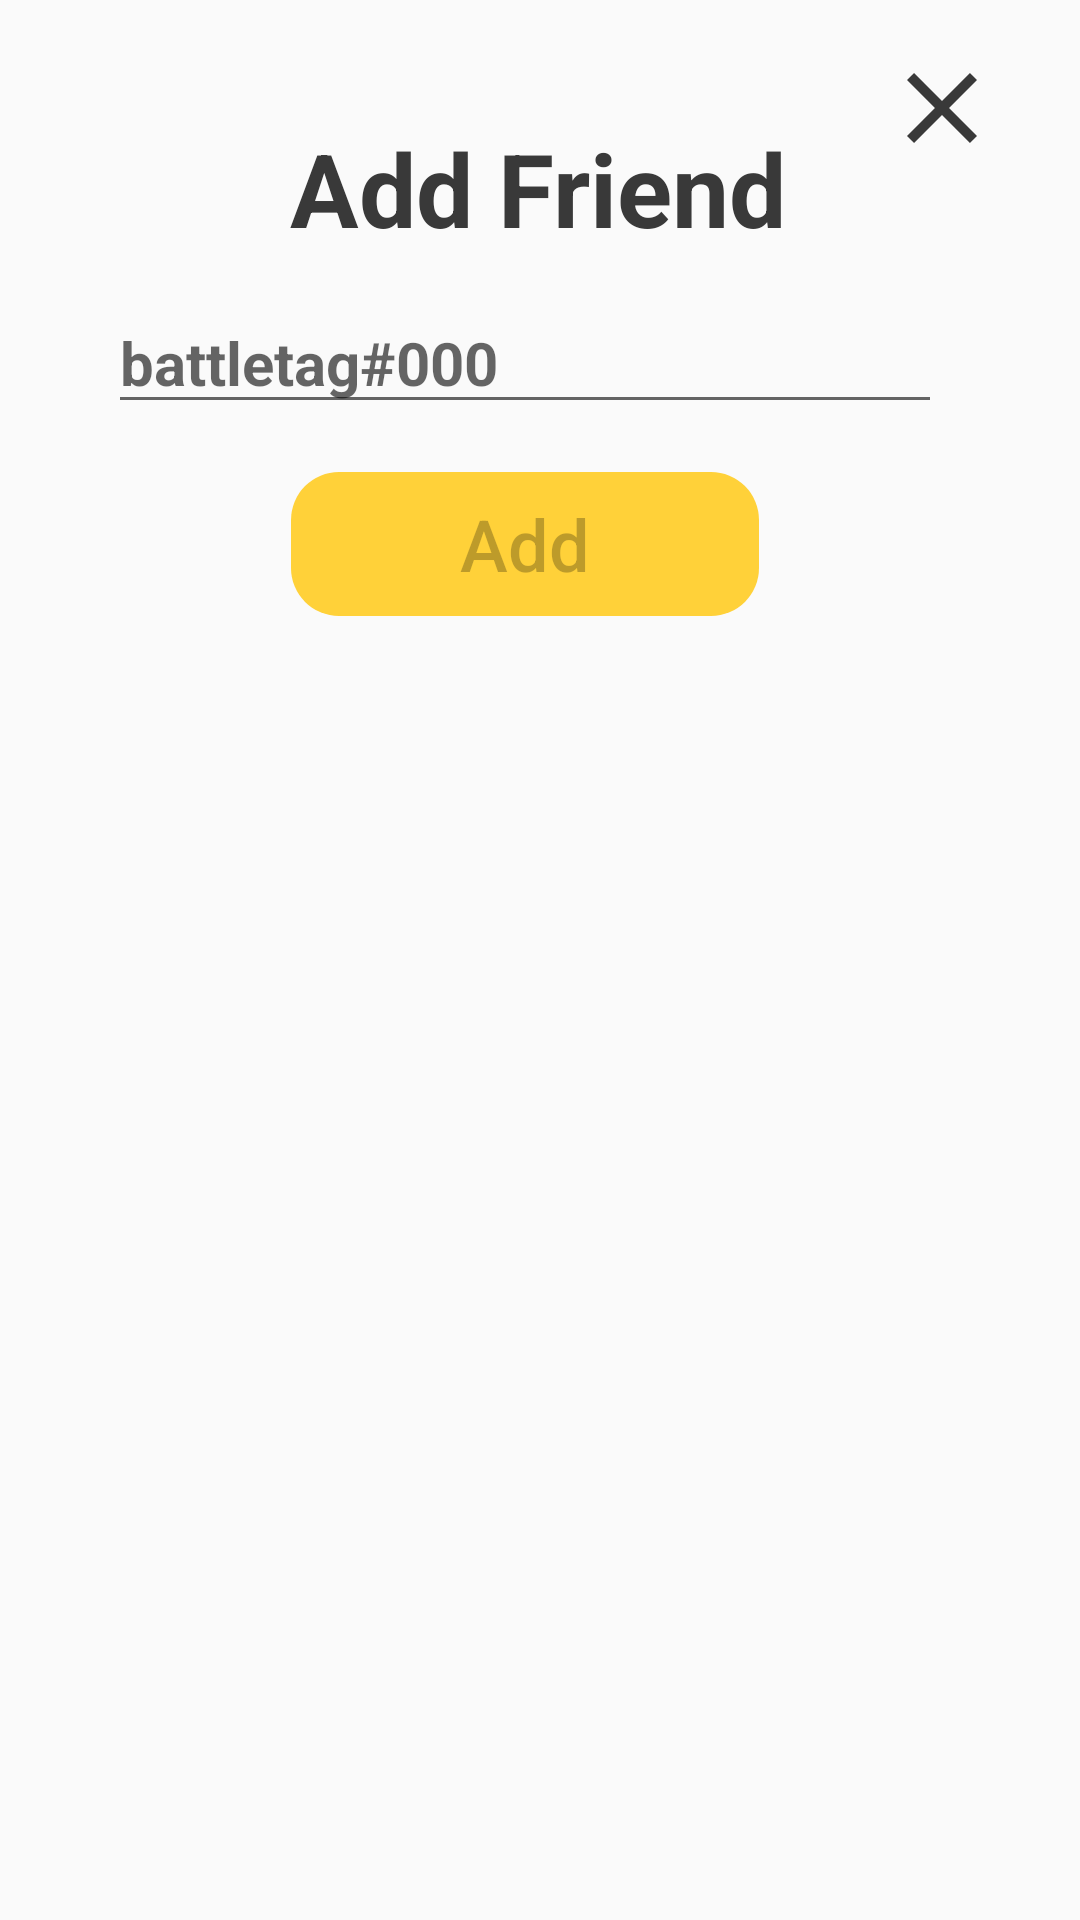

Screen size 1080 × 1920. Icon name, then its box in pixels as [x1=x1, y1=y1, x2=x2, y2=y2]:
close: [x1=907, y1=73, x2=977, y2=143]
